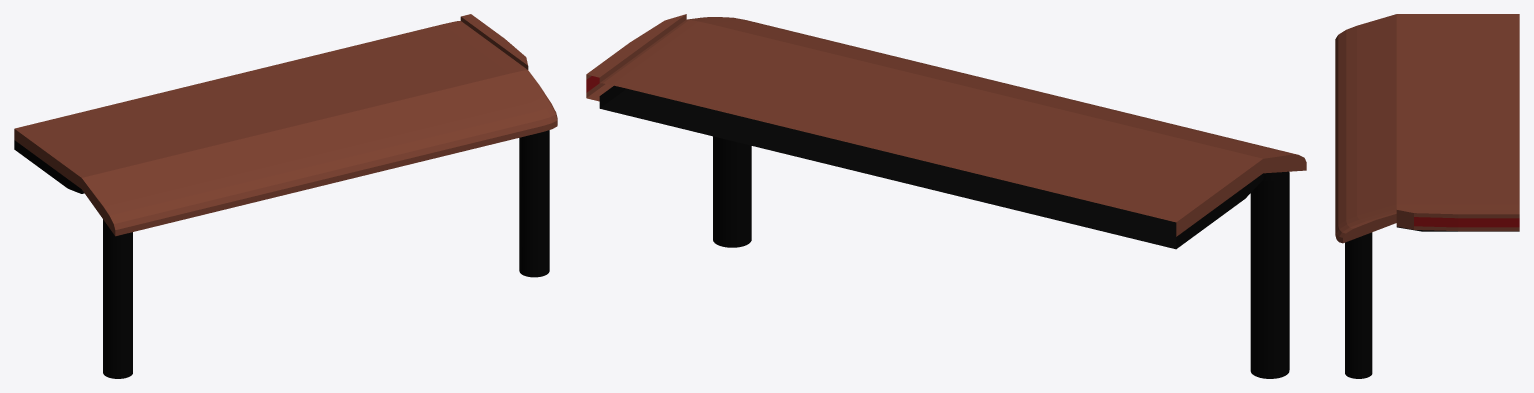
File: LibTable_Left.fbx
3 renders of one model, left to right at view 1: azimuth 30°, elevation 25°; view 2: azimuth 150°, elevation 25°; view 3: azimuth 270°, elevation 25°, orthographic. The views are drawn at different scales.
Visible parts, largest first — view 1: LibTable_Left; view 2: LibTable_Left; view 3: LibTable_Left.
Part boxes in pixels (x1,y1,x2,y2): LibTable_Left: (14, 14, 557, 378); LibTable_Left: (586, 14, 1306, 378); LibTable_Left: (1335, 14, 1519, 378).
Size of the model in its own units: 522 by 203 by 200.
